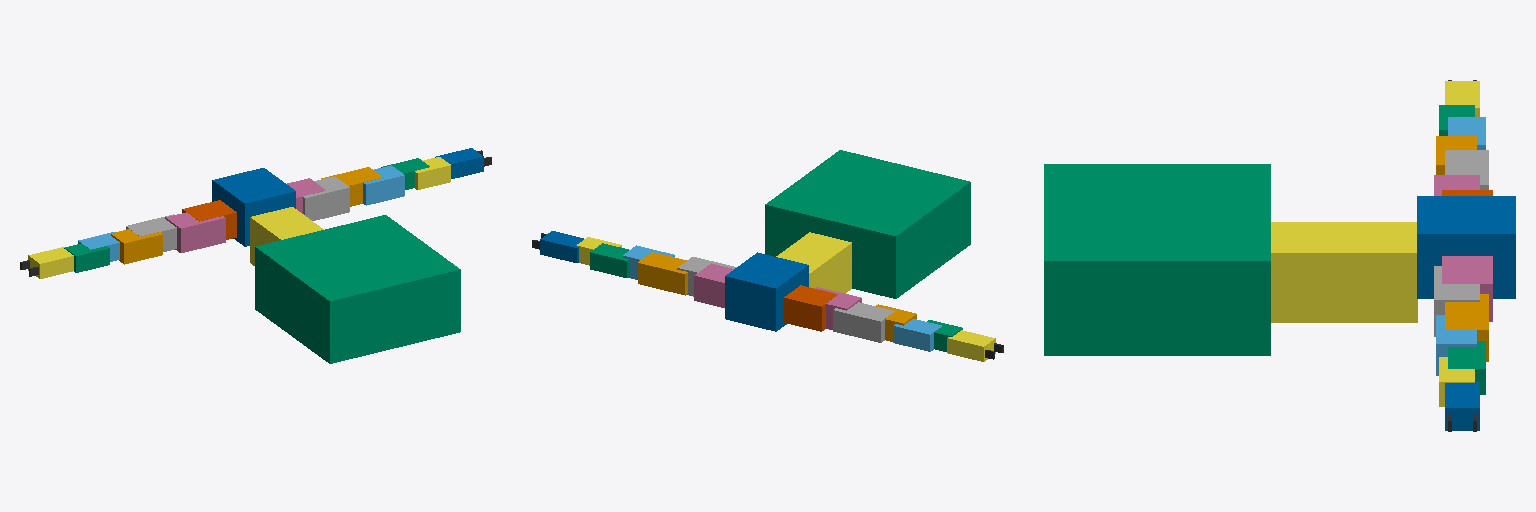
URDF robot description (Krang):
<?xml version="1.0" ?>
<!-- @file Krang.urdf -->
<!-- @author [author] -->
<!-- @date May 19, 2013 -->
<!-- @brief This file contains the .urdf definition for Krang with no dae files but only -->
<!-- bounding boxes for the dae files except the wheels (for fast loading in 05-fr). -->
<!-- TODO: Set the center of mass locations -->
<!-- TODO: Set the correct masses. Note that the dae models have the brackets divided in two and -->
<!-- connected to the middle motor for which we do not have measurements. -->
<!-- NOTE: The bounding box values are taken by finding the min and max values of the dae files. -->

<robot name="Krang">

	<!-- Links -->

	<link name = "LWheel"> 
    <inertial>
      <mass value="4.66"/>
      <inertia ixx="0.102019" ixy="2.45462e-05" ixz="0.00713022" iyy="0.0832724" iyz="-0.00131733" izz="0.086493"/>
      <origin xyz="0 0 0"/>
    </inertial>
		<visual> <geometry> <mesh filename="Base/oldwheel.dae" /> </geometry> </visual> 
		<collision> <geometry> <mesh filename="Base/oldwheel.dae" /> </geometry> </collision> 
	</link>

	<link name = "RWheel"> 
    <inertial>
      <mass value="4.66"/>
      <inertia ixx="0.102019" ixy="2.45462e-05" ixz="0.00713022" iyy="0.0832724" iyz="-0.00131733" izz="0.086493"/>
      <origin xyz="0 0 0"/>
    </inertial>
		<visual> <geometry> <mesh filename="Base/oldwheel.dae" /> </geometry> </visual> 
		<collision> <geometry> <mesh filename="Base/oldwheel.dae" /> </geometry> </collision> 
	</link>

	<link name = "Base"> 
    <inertial>
      <mass value="86.5"/>
      <inertia ixx="0.102019" ixy="2.45462e-05" ixz="0.00713022" iyy="0.0832724" iyz="-0.00131733" izz="0.086493"/>
      <origin xyz="0 0 0"/>
    </inertial>
		<visual> 
			<origin xyz="0.00225 0.2097395 0.006300"/>
      <geometry>
        <box size="0.7165 0.71048 0.32860"/>
      </geometry>
		</visual> 
		<collision> 
			<origin xyz="0.00225 0.2097395 0.006300"/>
      <geometry>
        <box size="0.7165 0.71048 0.32860"/>
      </geometry>
		</collision> 
	</link>

	<link name = "Spine"> 
    <inertial>
      <mass value="6.547"/>
      <inertia ixx="0.102019" ixy="2.45462e-05" ixz="0.00713022" iyy="0.0832724" iyz="-0.00131733" izz="0.086493"/>
      <origin xyz="0 0 0"/>
    </inertial>
		<visual> 
			<origin xyz="-0.026 0.230150 0.053887"/>
      <geometry>
        <box size="0.2340 0.59430 0.24097"/>
      </geometry>
		</visual> 
		<collision> 
			<origin xyz="-0.026 0.230150 0.053887"/>
      <geometry>
        <box size="0.2340 0.59430 0.24097"/>
      </geometry>
		</collision> 
	</link>

	<link name = "Bracket"> 
    <inertial>
      <mass value="3.11"/>
      <inertia ixx="0.102019" ixy="2.45462e-05" ixz="0.00713022" iyy="0.0832724" iyz="-0.00131733" izz="0.086493"/>
      <origin xyz="0 0 0"/>
    </inertial>
		<visual> <origin xyz="0.0012875 0.0971525 -0.0280530"/> <geometry> <box size="0.2815 0.30791 0.22611"/> </geometry> </visual> 
		<collision> <origin xyz="0.0012875 0.0971525 -0.0280530"/> <geometry> <box size="0.2815 0.30791 0.22611"/> </geometry> </collision> 
	</link>

	<link name = "L1"> 
    <inertial>
      <mass value="3.28"/>
      <inertia ixx="0.102019" ixy="2.45462e-05" ixz="0.00713022" iyy="0.0832724" iyz="-0.00131733" izz="0.086493"/>
      <origin xyz="0 0 0"/>
    </inertial>
		<visual> <origin xyz="0.015 -0.080866 0.0"/> <geometry> <box size="0.16 0.29367 0.13188"/> </geometry> </visual> 
		<collision> <origin xyz="0.015 -0.080866 0.0"/> <geometry> <box size="0.16 0.29367 0.13188"/> </geometry> </collision> 
	</link>

	<link name = "L2"> 
    <inertial>
      <mass value="3.76"/>
      <inertia ixx="0.102019" ixy="2.45462e-05" ixz="0.00713022" iyy="0.0832724" iyz="-0.00131733" izz="0.086493"/>
      <origin xyz="0 0 0"/>
    </inertial>
		<visual> <origin xyz="0.017042 -0.058309 0.0"/> <geometry> <box size="0.14591 0.24658 0.13"/> </geometry> </visual> 
		<collision> <origin xyz="0.017042 -0.058309 0.0"/> <geometry> <box size="0.14591 0.24658 0.13"/> </geometry> </collision> 
	</link>

	<link name = "L3"> 
    <inertial>
      <mass value="2.435"/>
      <inertia ixx="0.102019" ixy="2.45462e-05" ixz="0.00713022" iyy="0.0832724" iyz="-0.00131733" izz="0.086493"/>
      <origin xyz="0 0 0"/>
    </inertial>
		<visual> <origin xyz="0.014000 -0.075113 0.0"/> <geometry> <box size="0.13800 0.26217 0.11189"/> </geometry> </visual> 
		<collision> <origin xyz="0.014000 -0.075113 0.0"/> <geometry> <box size="0.13800 0.26217 0.11189"/> </geometry> </collision> 
	</link>

	<link name = "L4"> 
    <inertial>
      <mass value="2.356"/>
      <inertia ixx="0.102019" ixy="2.45462e-05" ixz="0.00713022" iyy="0.0832724" iyz="-0.00131733" izz="0.086493"/>
      <origin xyz="0 0 0"/>
    </inertial>
		<visual> <origin xyz="0.018200 -0.052050 0.0"/> <geometry> <box size="0.12960 0.2141 0.11"/> </geometry> </visual> 
		<collision> <origin xyz="0.018200 -0.052050 0.0"/> <geometry> <box size="0.12960 0.2141 0.11"/> </geometry> </collision> 
	</link>

	<link name = "L5"> 
    <inertial>
      <mass value="1.517"/>
      <inertia ixx="0.102019" ixy="2.45462e-05" ixz="0.00713022" iyy="0.0832724" iyz="-0.00131733" izz="0.086493"/>
      <origin xyz="0 0 0"/>
    </inertial>
		<visual> <origin xyz="0.0145115 -0.0571105 0.0000425"/> <geometry> <box size="0.117977 0.204179 0.089915"/> </geometry> </visual> 
		<collision> <origin xyz="0.0145115 -0.0571105 0.0000425"/> <geometry> <box size="0.117977 0.204179 0.089915"/> </geometry> </collision> 
	</link>

	<link name = "L6"> 
    <inertial>
      <mass value="1.428"/>
      <inertia ixx="0.102019" ixy="2.45462e-05" ixz="0.00713022" iyy="0.0832724" iyz="-0.00131733" izz="0.086493"/>
      <origin xyz="0 0 0"/>
    </inertial>
		<visual> <origin xyz="0.0175015 -0.0481615 0.0"/> <geometry> <box size="0.111977 0.185277 0.089"/> </geometry> </visual> 
		<collision> <origin xyz="0.0175015 -0.0481615 0.0"/> <geometry> <box size="0.111977 0.185277 0.089"/> </geometry> </collision> 
	</link>

	<link name = "lGripper"> 
    <inertial>
      <mass value="1.206"/>
      <inertia ixx="0.102019" ixy="2.45462e-05" ixz="0.00713022" iyy="0.0832724" iyz="-0.00131733" izz="0.086493"/>
      <origin xyz="0 0 0"/>
    </inertial>
		<visual> <origin xyz="0.0 -0.0 0.02615" rpy="0.0 0.0 1.5708"/> <geometry> <box size="0.08 0.112 0.2025"/> </geometry> </visual> 
		<collision> <origin xyz="0.0 -0.0 0.02615" rpy="0.0 0.0 1.5708"/> <geometry> <box size="0.08 0.112 0.2025"/> </geometry> </collision> 
	</link>

	<link name = "lgPlate1">
		<visual> <geometry> <mesh filename="Schunk/gripperPlate.dae" /> </geometry> </visual>
	</link> 	

	<link name = "lgPlate2">
		<visual> <geometry> <mesh filename="Schunk/gripperPlate.dae" /> </geometry> </visual>
	</link> 	

	<link name = "R1"> 
    <inertial>
      <mass value="3.28"/>
      <inertia ixx="0.102019" ixy="2.45462e-05" ixz="0.00713022" iyy="0.0832724" iyz="-0.00131733" izz="0.086493"/>
      <origin xyz="0 0 0"/>
    </inertial>
		<visual> <origin xyz="0.015 -0.080866 0.0"/> <geometry> <box size="0.16 0.29367 0.13188"/> </geometry> </visual> 
		<collision> <origin xyz="0.015 -0.080866 0.0"/> <geometry> <box size="0.16 0.29367 0.13188"/> </geometry> </collision> 
	</link>

	<link name = "R2"> 
    <inertial>
      <mass value="3.76"/>
      <inertia ixx="0.102019" ixy="2.45462e-05" ixz="0.00713022" iyy="0.0832724" iyz="-0.00131733" izz="0.086493"/>
      <origin xyz="0 0 0"/>
    </inertial>
		<visual> <origin xyz="0.017042 -0.058309 0.0"/> <geometry> <box size="0.14591 0.24658 0.13"/> </geometry> </visual> 
		<collision> <origin xyz="0.017042 -0.058309 0.0"/> <geometry> <box size="0.14591 0.24658 0.13"/> </geometry> </collision> 
	</link>

	<link name = "R3"> 
    <inertial>
      <mass value="2.435"/>
      <inertia ixx="0.102019" ixy="2.45462e-05" ixz="0.00713022" iyy="0.0832724" iyz="-0.00131733" izz="0.086493"/>
      <origin xyz="0 0 0"/>
    </inertial>
		<visual> <origin xyz="0.014000 -0.075113 0.0"/> <geometry> <box size="0.13800 0.26217 0.11189"/> </geometry> </visual> 
		<collision> <origin xyz="0.014000 -0.075113 0.0"/> <geometry> <box size="0.13800 0.26217 0.11189"/> </geometry> </collision> 
	</link>

	<link name = "R4"> 
    <inertial>
      <mass value="2.356"/>
      <inertia ixx="0.102019" ixy="2.45462e-05" ixz="0.00713022" iyy="0.0832724" iyz="-0.00131733" izz="0.086493"/>
      <origin xyz="0 0 0"/>
    </inertial>
		<visual> <origin xyz="0.018200 -0.052050 0.0"/> <geometry> <box size="0.12960 0.2141 0.11"/> </geometry> </visual> 
		<collision> <origin xyz="0.018200 -0.052050 0.0"/> <geometry> <box size="0.12960 0.2141 0.11"/> </geometry> </collision> 
	</link>

	<link name = "R5"> 
    <inertial>
      <mass value="1.517"/>
      <inertia ixx="0.102019" ixy="2.45462e-05" ixz="0.00713022" iyy="0.0832724" iyz="-0.00131733" izz="0.086493"/>
      <origin xyz="0 0 0"/>
    </inertial>
		<visual> <origin xyz="0.0145115 -0.0571105 0.0000425"/> <geometry> <box size="0.117977 0.204179 0.089915"/> </geometry> </visual> 
		<collision> <origin xyz="0.0145115 -0.0571105 0.0000425"/> <geometry> <box size="0.117977 0.204179 0.089915"/> </geometry> </collision> 
	</link>

	<link name = "R6"> 
    <inertial>
      <mass value="1.428"/>
      <inertia ixx="0.102019" ixy="2.45462e-05" ixz="0.00713022" iyy="0.0832724" iyz="-0.00131733" izz="0.086493"/>
      <origin xyz="0 0 0"/>
    </inertial>
		<visual> <origin xyz="0.0175015 -0.0481615 0.0"/> <geometry> <box size="0.111977 0.185277 0.089"/> </geometry> </visual> 
		<collision> <origin xyz="0.0175015 -0.0481615 0.0"/> <geometry> <box size="0.111977 0.185277 0.089"/> </geometry> </collision> 
	</link>

	<link name = "rGripper"> 
    <inertial>
      <mass value="1.206"/>
      <inertia ixx="0.102019" ixy="2.45462e-05" ixz="0.00713022" iyy="0.0832724" iyz="-0.00131733" izz="0.086493"/>
      <origin xyz="0 0 0"/>
    </inertial>
		<visual> <origin xyz="0.0 -0.0 0.02615" rpy="0.0 0.0 1.5708"/> <geometry> <box size="0.08 0.112 0.2025"/> </geometry> </visual> 
		<collision> <origin xyz="0.0 -0.0 0.02615" rpy="0.0 0.0 1.5708"/> <geometry> <box size="0.08 0.112 0.2025"/> </geometry> </collision> 
	</link>

	<link name = "rgPlate1">
		<visual> <geometry> <mesh filename="Schunk/gripperPlate.dae" /> </geometry> </visual>
	</link> 	

	<link name = "rgPlate2">
		<visual> <geometry> <mesh filename="Schunk/gripperPlate.dae" /> </geometry> </visual>
	</link> 	

	<!-- ======================================================================================================== -->
	<!-- ============================================ Joints ==================================================== -->
	<!-- ======================================================================================================== -->

	<joint name="JLWheel" type="revolute"> <parent link="Base" /> <child link="LWheel" />
		<origin xyz = "-0.354 0.0 0" rpy="0 0 0" />
		<axis xyz="1 0 0" /> <limit effort="1000" lower="-3.1416" upper="3.1416" velocity="0.1" />
	</joint>

	<joint name="JRWheel" type="revolute"> <parent link="Base" /> <child link="RWheel" />
		<origin xyz = "0.361 0.0 0" rpy="0 0 0" />
		<axis xyz="1 0 0" /> <limit effort="1000" lower="-3.1416" upper="3.1416" velocity="0.1" />
	</joint>

	<joint name="JWaist" type="revolute"> <parent link="Base" /> <child link="Spine" />
		<origin xyz = "0.026 0.499 -0.091" rpy="0 0 0" />
		<axis xyz="-1 0 0" /> <limit effort="1000" lower="0" upper="2.3" velocity="0.1" />
	</joint>

	<joint name="JTorso" type="revolute"> <parent link="Spine" /> <child link="Bracket" />
		<origin xyz = "-0.0285 0.584 0.1088" rpy="0 3.1416 0" />
		<axis xyz="0 -1 0" /> <limit effort="1000" lower="-0.8" upper="0.8" velocity="0.1" />
	</joint>

	<joint name="LJ1" type="revolute"> <parent link="Bracket" /> <child link="L1" />
		<origin xyz = "0.2823 0.0845 0" rpy="0 3.1416 -1.5708" />
		<axis xyz="0 -1 0" /> <limit effort="1000" lower="-3.1416" upper="3.1416" velocity="0.1" />
	</joint>

	<joint name="LJ2" type="revolute"> <parent link="L1" /> <child link="L2" />
		<origin xyz="0 0.0 0" rpy="3.14 3.14 0" />
		<axis xyz="-1 0 0" /> <limit effort="1000" lower="-2.094" upper="2.094" velocity="0.1" />
	</joint>

	<joint name="LJ3" type="revolute"> <parent link="L2" /> <child link="L3" />
		<origin xyz="0 -0.328 0" rpy="-3.1416 -3.1416 0" />
		<axis xyz="0 -1 0" /> <limit effort="1000" lower="-3.1416" upper="3.1416" velocity="0.1" />
	</joint>

	<joint name="LJ4" type="revolute"> <parent link="L3" /> <child link="L4" />
		<origin xyz="0 0 0" rpy="3.1416 3.1416 0" />
		<axis xyz="-1 0 0" /> <limit effort="1000" lower="-2.094" upper="2.094" velocity="0.1" />
	</joint>

	<joint name="LJ5" type="revolute"> <parent link="L4" /> <child link="L5" />
		<origin xyz="0 -0.2765 0" rpy="3.1416 3.1416 0" />
		<axis xyz="0 -1 0" /> <limit effort="1000" lower="-3.1416" upper="3.1416" velocity="0.1" />
	</joint>

	<joint name="LJ6" type="revolute"> <parent link="L5" /> <child link="L6" />
		<origin xyz="0 0 0" rpy="3.1416 3.1416 0" />
		<axis xyz="-1 0 0" /> <limit effort="1000" lower="-2.094" upper="2.094" velocity="0.1" />
	</joint>

	<!-- For some reason, I had to negate the axis to make sure the motor turns like the others -->
	<joint name="LJFT" type="revolute"> <parent link="L6" /> <child link="lGripper" />
		<origin xyz="0 -0.200 0" rpy="1.5708 3.1416 0" />
		<axis xyz="0 0 -1" /> <limit effort="1000" lower="-3.1416" upper="3.1416" velocity="0.1" />
	</joint>

	<joint name="LMotorPlate1" type="fixed"> <parent link="lGripper" /> <child link="lgPlate1" />
		<origin xyz="-0.045 0.0 0.127" rpy="3.1416 0 0.0" />
		<axis xyz="1 0 0" /> <limit effort="1000" lower="0.0" upper="0.0135" velocity="0.1" />
	</joint>

	<joint name="LMotorPlate2" type="fixed"> <parent link="lGripper" /> <child link="lgPlate2" />
		<origin xyz="0.045 0.000 0.127" rpy="3.1416 0 3.1416" />
		<axis xyz="1 0 0" /> <limit effort="1000" lower="0.0" upper="0.0135" velocity="0.1" />
	</joint>

	<!-- Right arm -->

	<joint name="RJ1" type="revolute"> <parent link="Bracket" /> <child link="R1" />
		<origin xyz = "-0.2823 0.0845 0" rpy="0 0 1.5708" />
		<axis xyz="0 -1 0" /> <limit effort="1000" lower="-3.1416" upper="3.1416" velocity="0.1" />
	</joint>

	<joint name="RJ2" type="revolute"> <parent link="R1" /> <child link="R2" />
		<origin xyz="0 0.0 0" rpy="3.14 3.14 0" />
		<axis xyz="-1 0 0" /> <limit effort="1000" lower="-2.094" upper="2.094" velocity="0.1" />
	</joint>

	<joint name="RJ3" type="revolute"> <parent link="R2" /> <child link="R3" />
		<origin xyz="0 -0.328 0" rpy="-3.1416 -3.1416 0" />
		<axis xyz="0 -1 0" /> <limit effort="1000" lower="-3.1416" upper="3.1416" velocity="0.1" />
	</joint>

	<joint name="RJ4" type="revolute"> <parent link="R3" /> <child link="R4" />
		<origin xyz="0 0 0" rpy="3.1416 3.1416 0" />
		<axis xyz="-1 0 0" /> <limit effort="1000" lower="-2.094" upper="2.094" velocity="0.1" />
	</joint>

	<joint name="RJ5" type="revolute"> <parent link="R4" /> <child link="R5" />
		<origin xyz="0 -0.2765 0" rpy="3.1416 3.1416 0" />
		<axis xyz="0 -1 0" /> <limit effort="1000" lower="-3.1416" upper="3.1416" velocity="0.1" />
	</joint>

	<joint name="RJ6" type="revolute"> <parent link="R5" /> <child link="R6" />
		<origin xyz="0 0 0" rpy="3.1416 3.1416 0" />
		<axis xyz="-1 0 0" /> <limit effort="1000" lower="-2.094" upper="2.094" velocity="0.1" />
	</joint>

	<joint name="RJFT" type="revolute"> <parent link="R6" /> <child link="rGripper" />
		<origin xyz="0 -0.200 0" rpy="1.5708 3.1416 0" />
		<axis xyz="0 0 -1" /> <limit effort="1000" lower="-3.1416" upper="3.1416" velocity="0.1" />
	</joint>

	<joint name="RMotorPlate1" type="fixed"> <parent link="rGripper" /> <child link="rgPlate1" />
		<origin xyz="-0.045 0.0 0.127" rpy="3.1416 0 0" />
		<axis xyz="1 0 0" /> <limit effort="1000" lower="0.0" upper="0.0135" velocity="0.1" />
	</joint>

	<joint name="RMotorPlate2" type="fixed"> <parent link="rGripper" /> <child link="rgPlate2" />
		<origin xyz="0.045 0.000 0.127" rpy="3.1416 0 3.1416" />
		<axis xyz="1 0 0" /> <limit effort="1000" lower="0.0" upper="0.0135" velocity="0.1" />
	</joint>

</robot>

--- What the picture shows (computed from the rendered views, not written in the file) ---
3 views of the same robot in one strip: view 1: azimuth 30°, elevation 25°; view 2: azimuth 150°, elevation 25°; view 3: azimuth 270°, elevation 25° (orthographic).
Robot: Krang — 23 links, 22 joints (18 revolute, 4 fixed); root link Base; default pose: every joint at zero.
Visible links, largest first — view 1: Base, Bracket, Spine, L2, R2, L4, R4, lGripper, L1, rGripper, L6, R6 (+3 smaller); view 2: Base, Bracket, Spine, L1, L3, R3, R1, L5, lGripper, R5, rGripper, L2 (+2 smaller); view 3: Base, Spine, Bracket, R1, rGripper, R3, L3, R2, R5, R4, lGripper, L5 (+4 smaller).
Boxes of the visible links, x1,y1,x2,y2 form: Base: [255, 215, 460, 363]; Bracket: [212, 168, 295, 246]; Spine: [250, 207, 323, 265]; L2: [165, 212, 225, 252]; R2: [303, 176, 349, 220]; L4: [111, 229, 162, 264]; R4: [363, 165, 404, 205]; lGripper: [28, 247, 73, 278]; L1: [182, 200, 236, 239]; rGripper: [435, 148, 483, 178]; L6: [64, 243, 109, 272]; R6: [415, 157, 450, 189]; Base: [765, 150, 970, 298]; Bracket: [725, 252, 808, 331]; Spine: [776, 232, 851, 293]; L1: [784, 285, 837, 331]; L3: [833, 302, 894, 342]; R3: [638, 252, 687, 295]; R1: [694, 263, 733, 307]; L5: [893, 319, 941, 351]; lGripper: [947, 330, 995, 361]; R5: [590, 243, 629, 277]; rGripper: [540, 231, 583, 262]; L2: [815, 287, 861, 329]; Base: [1044, 164, 1270, 355]; Spine: [1271, 222, 1417, 322]; Bracket: [1417, 196, 1515, 298]; R1: [1442, 256, 1492, 321]; rGripper: [1445, 381, 1479, 430]; R3: [1445, 294, 1488, 361]; L3: [1445, 150, 1488, 189]; R2: [1434, 266, 1479, 336]; R5: [1448, 341, 1485, 394]; R4: [1436, 315, 1476, 375]; lGripper: [1445, 81, 1479, 116]; L5: [1448, 117, 1485, 149].
Bounding box of the posed robot: 2.53 × 1.48 × 0.3286 m (x, y, z).
4 mesh visuals loaded from 2 distinct referenced files (1 Collada DAE); not drawn: 2 (reference not matched to a file when rendering).